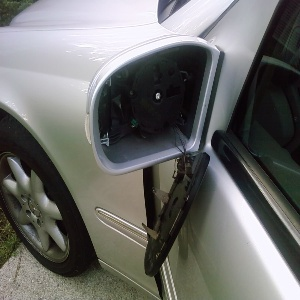side_mirror: (84, 35, 222, 276)
